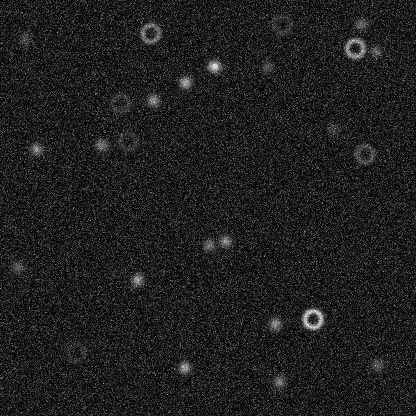Ring: (352, 141, 376, 165), (115, 128, 139, 152), (108, 91, 132, 115), (269, 12, 293, 36), (342, 36, 366, 60), (138, 21, 162, 45), (300, 306, 324, 330), (63, 339, 87, 363)
Spot: (324, 121, 340, 137), (145, 92, 161, 108), (266, 315, 282, 331), (93, 137, 109, 153), (16, 30, 32, 46), (368, 43, 384, 59), (129, 271, 145, 287), (176, 359, 192, 375), (200, 237, 216, 253), (271, 373, 287, 389), (259, 59, 275, 75), (352, 15, 368, 31), (9, 258, 25, 274), (369, 356, 385, 372), (28, 141, 44, 157), (177, 74, 193, 90), (217, 233, 233, 249), (206, 58, 222, 74)
